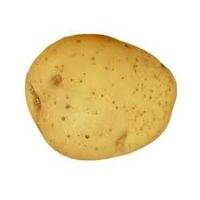biodegradable: (23, 33, 178, 161)
